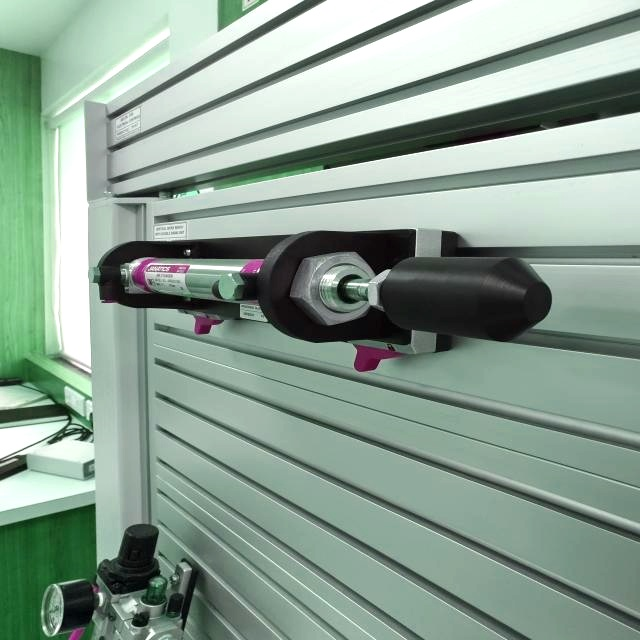double acting pneumatic cylinder: (88, 226, 556, 380)
